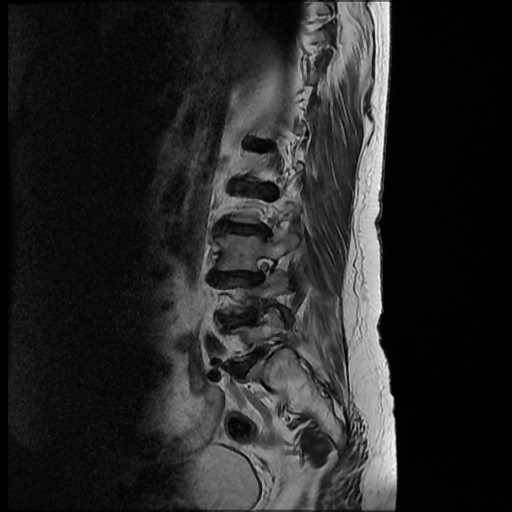RFS1: (246, 249, 286, 293)
